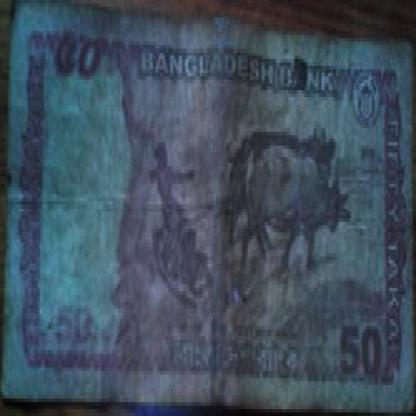Fifty taka: (332, 301, 390, 378), (48, 24, 110, 94)
